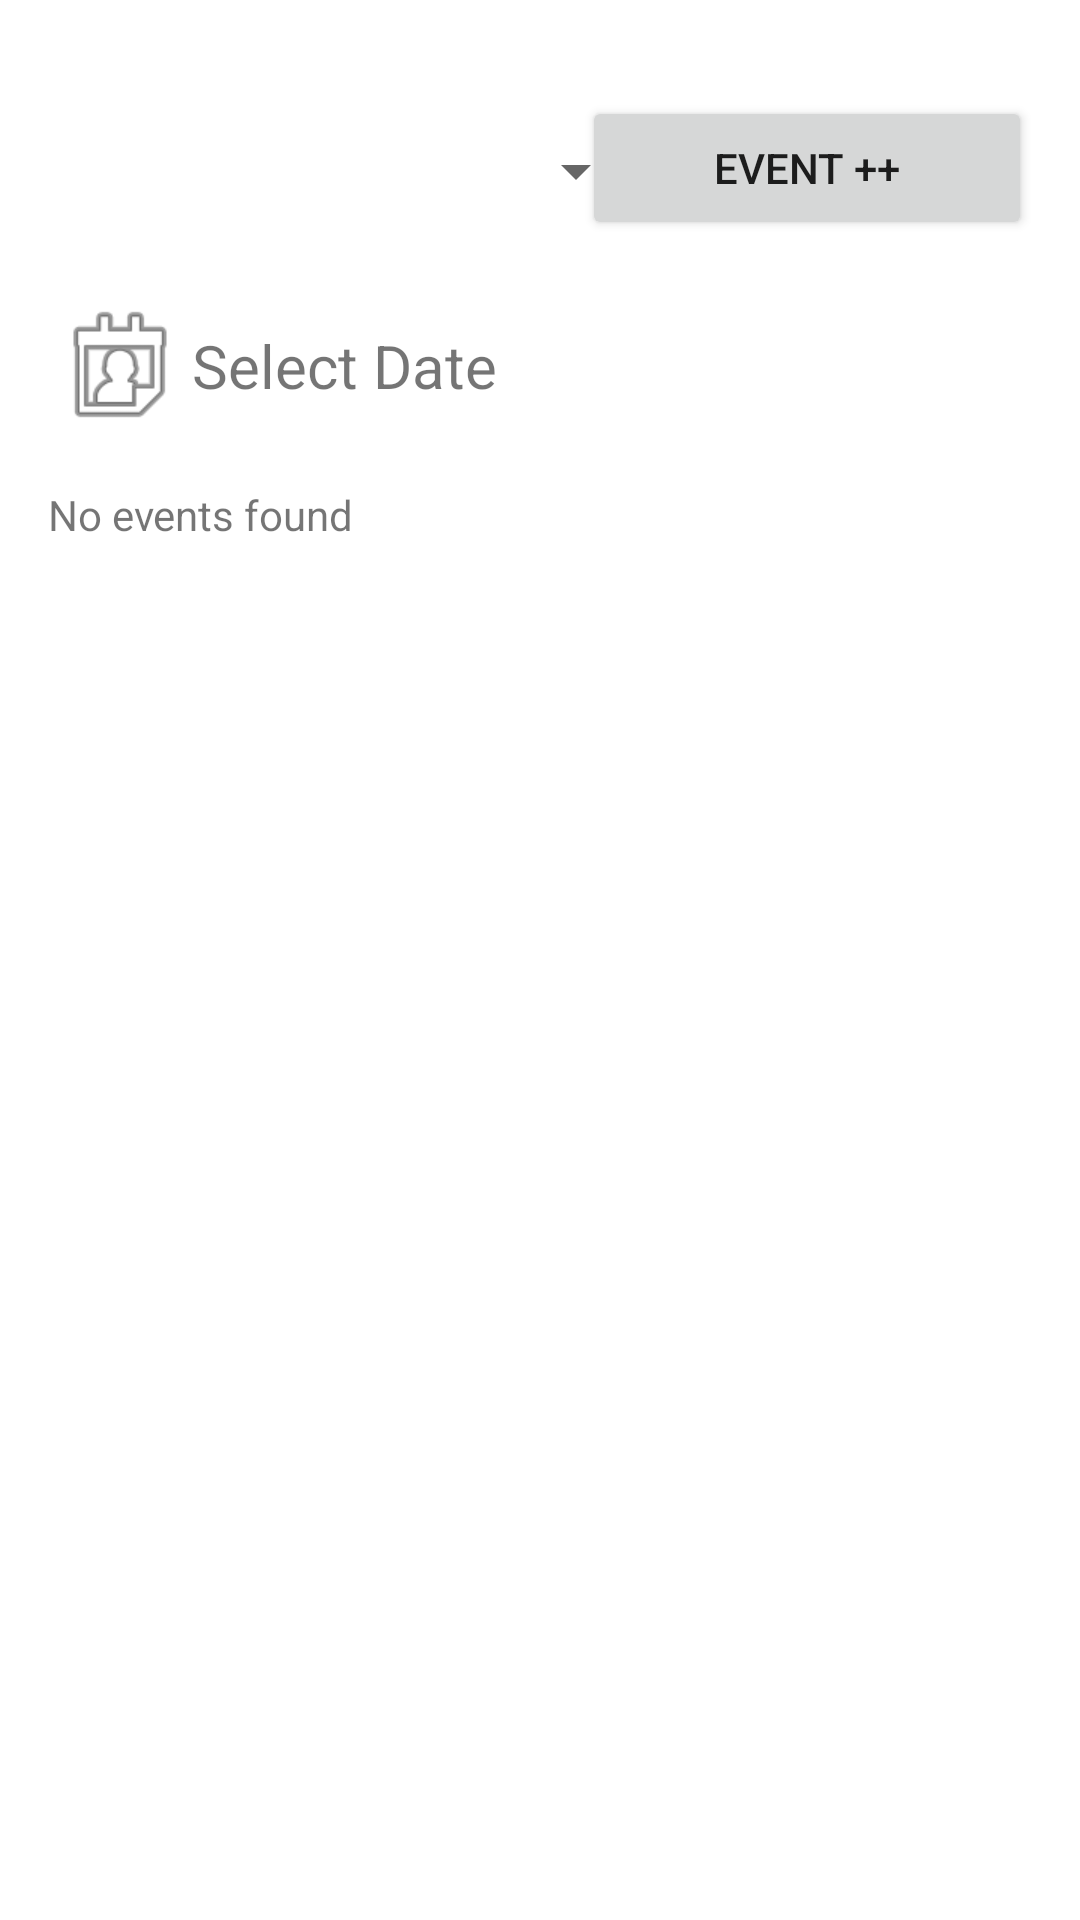

Screen size 1080w x 1920h. Icon name, then its center in pixels as (x,y):
calendar: (120,364)
